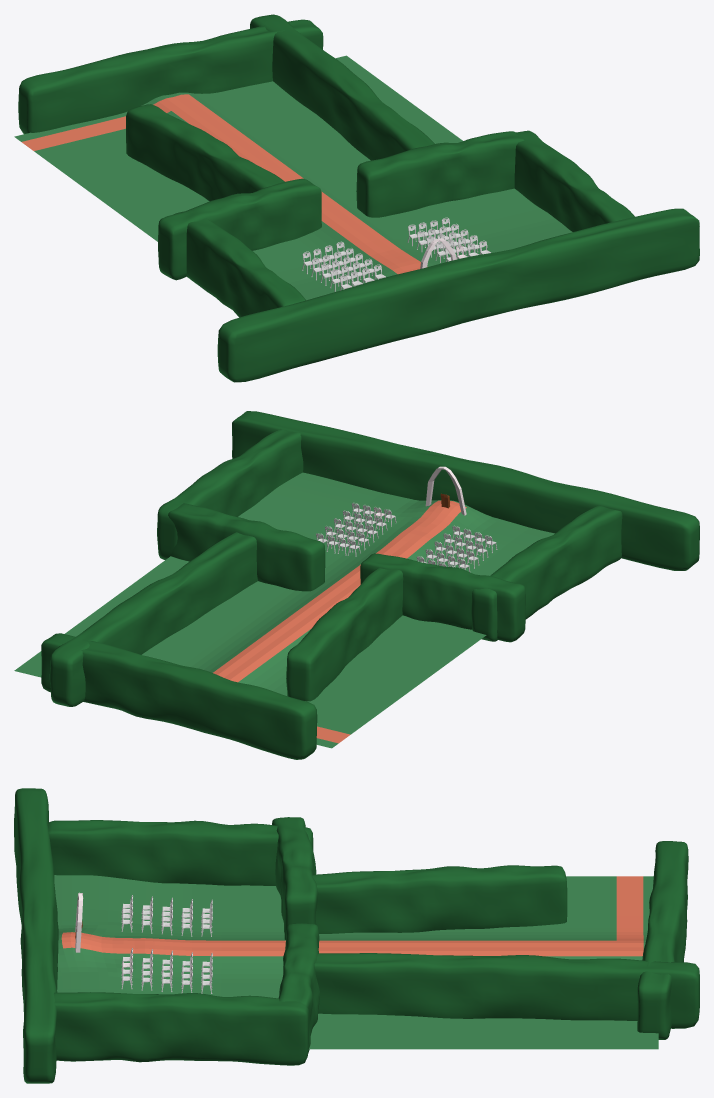
File: Wedding scene.fbx
3 views of the same model, one above another, from view 1: azimuth 30°, elevation 25°; view 2: azimuth 150°, elevation 25°; view 3: azimuth 270°, elevation 25° (orthographic). The views are drawn at different scales.
Parts seen in each view (by area): view 1: Plane, Cube.042, Cube.047, Cube.045, Cube.044, Cube.040, Cube.046, Cube.041, Cube.043; view 2: Plane, Cube.042, Cube.047, Cube.045, Cube.041, Cube.046, Cube.040, Cube.043, Cube.044; view 3: Plane, Cube.045, Cube.043, Cube.046, Cube.041, Cube.042, Cube.047, Cube.040, Cube.044.
Boxes of the visible parts, box(x1,y1,x2,y2) form: Plane: box(14, 55, 572, 300); Cube.042: box(217, 208, 699, 382); Cube.047: box(18, 19, 323, 134); Cube.045: box(250, 14, 434, 160); Cube.044: box(356, 131, 524, 217); Cube.040: box(158, 178, 321, 280); Cube.046: box(126, 104, 284, 201); Cube.041: box(173, 211, 305, 317); Cube.043: box(514, 130, 634, 231); Plane: box(14, 466, 554, 748); Cube.042: box(232, 411, 699, 570); Cube.047: box(41, 633, 317, 759); Cube.045: box(49, 532, 257, 706); Cube.041: box(471, 505, 622, 641); Cube.046: box(286, 567, 403, 701); Cube.040: box(360, 553, 525, 642); Cube.043: box(157, 429, 303, 559); Cube.044: box(168, 503, 325, 591); Plane: box(54, 875, 658, 1049); Cube.045: box(314, 953, 699, 1028); Cube.043: box(53, 992, 308, 1065); Cube.046: box(312, 865, 567, 933); Cube.041: box(47, 820, 313, 885); Cube.042: box(14, 788, 58, 1083); Cube.047: box(637, 841, 688, 1039); Cube.040: box(272, 817, 318, 939); Cube.044: box(278, 923, 319, 1053).
Bounding box in the file's own units: 6206 × 860 × 7262.
